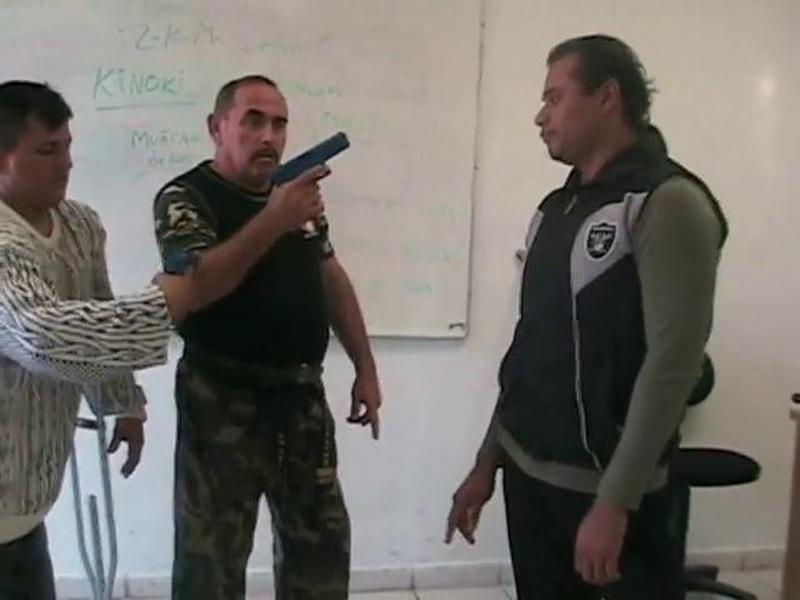Pistola: (257, 122, 373, 232)
